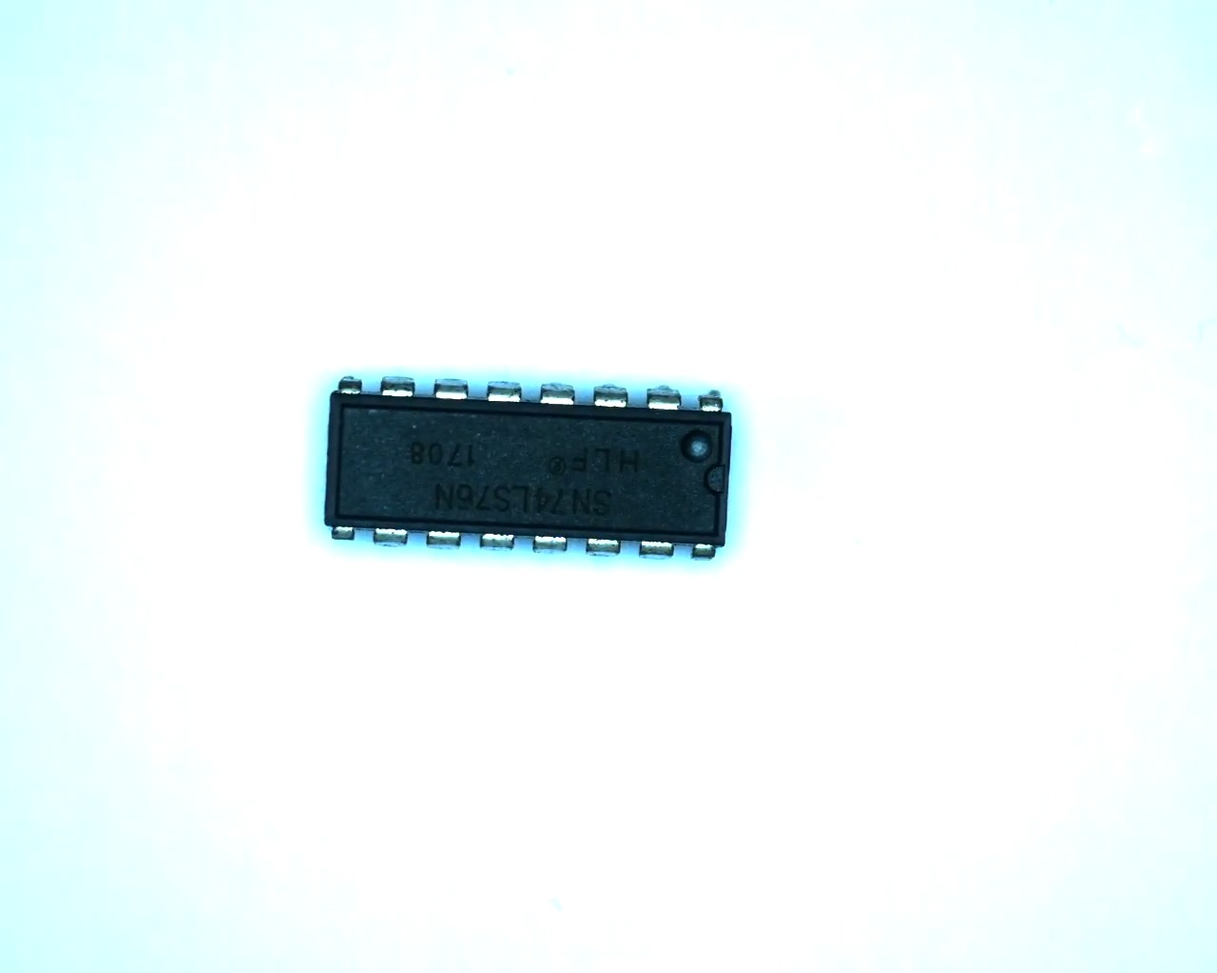IC: (315, 374, 738, 568)
notch: (700, 463, 729, 504)
